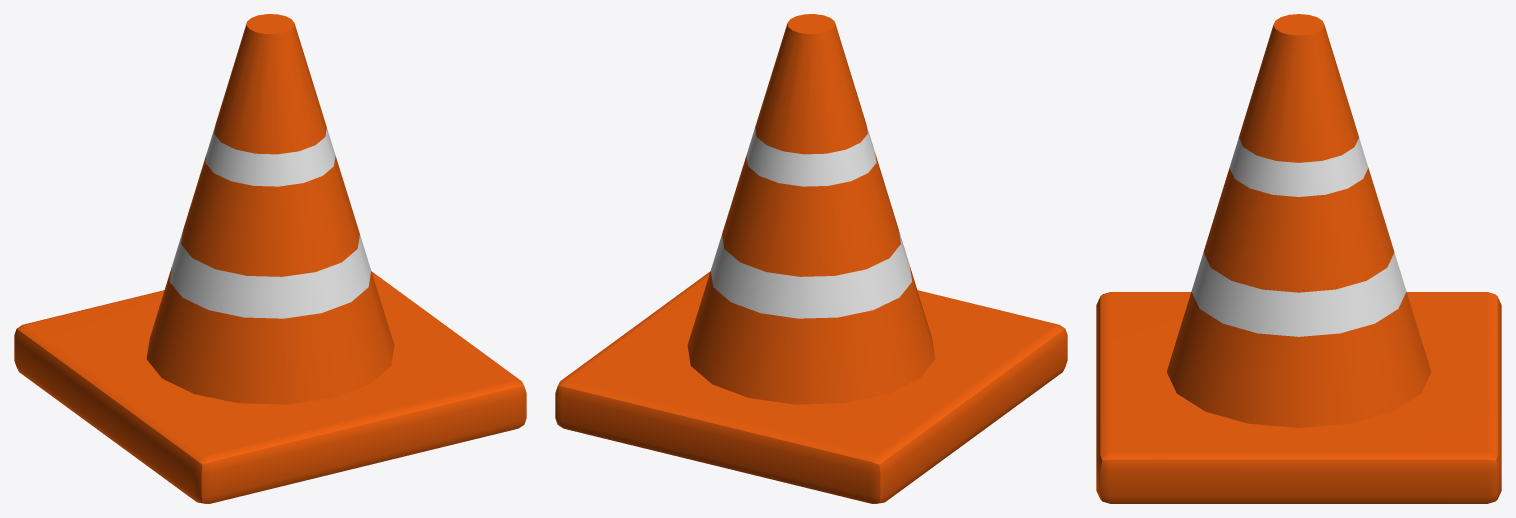
Rendered from duba_geo.fbx.
3 views of the same model, side by side, from view 1: azimuth 30°, elevation 25°; view 2: azimuth 150°, elevation 25°; view 3: azimuth 270°, elevation 25° (orthographic). The views are drawn at different scales.
Parts seen in each view (by area): view 1: duba; view 2: duba; view 3: duba.
Boxes of the visible parts, left/top/right/bottom form: duba: left=14, top=14, right=526, bottom=503; duba: left=555, top=14, right=1067, bottom=503; duba: left=1096, top=14, right=1501, bottom=503.
Size of the model in its own units: 1.68 by 1.82 by 1.68.
